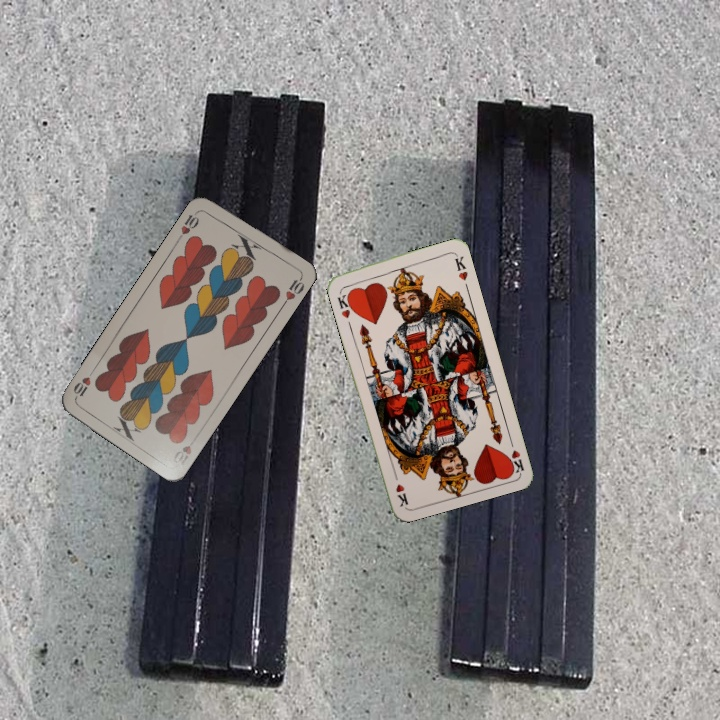H10: (168, 432, 200, 468), (174, 206, 202, 242)
HK: (503, 434, 527, 475), (333, 286, 357, 321)
